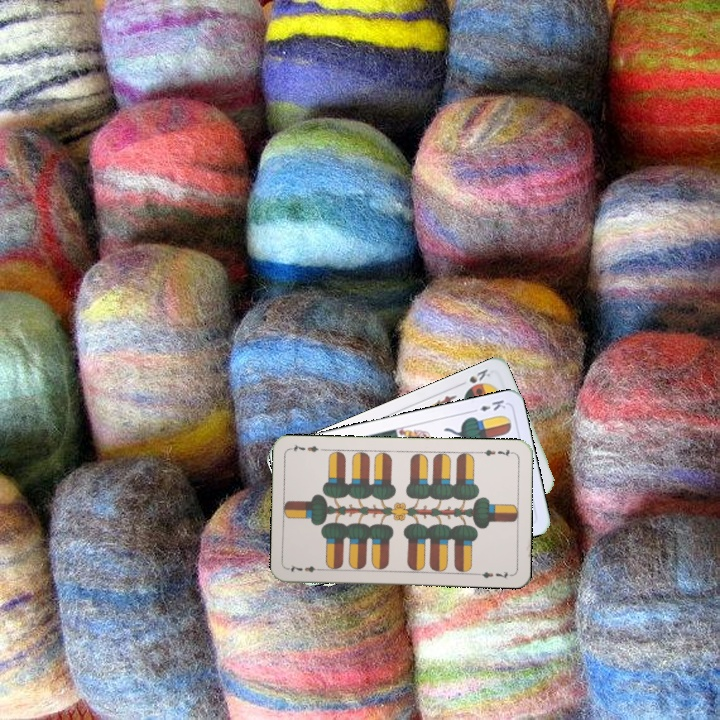E7: (476, 445, 516, 460), (285, 561, 326, 575)
EK: (467, 396, 508, 415)
SK: (465, 365, 493, 386)
